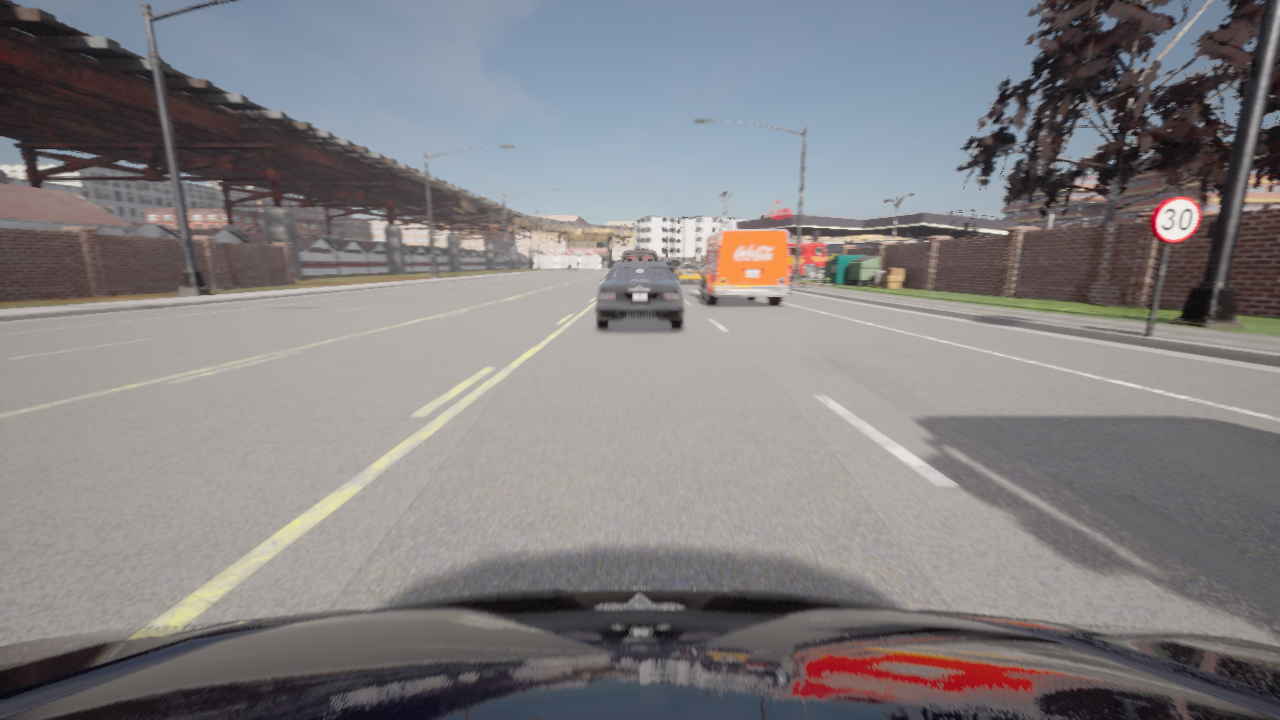cyclist: (0, 588, 1279, 719), (696, 230, 791, 305), (596, 262, 684, 328), (788, 238, 827, 278), (674, 262, 701, 283), (617, 251, 662, 262), (662, 260, 680, 275)
